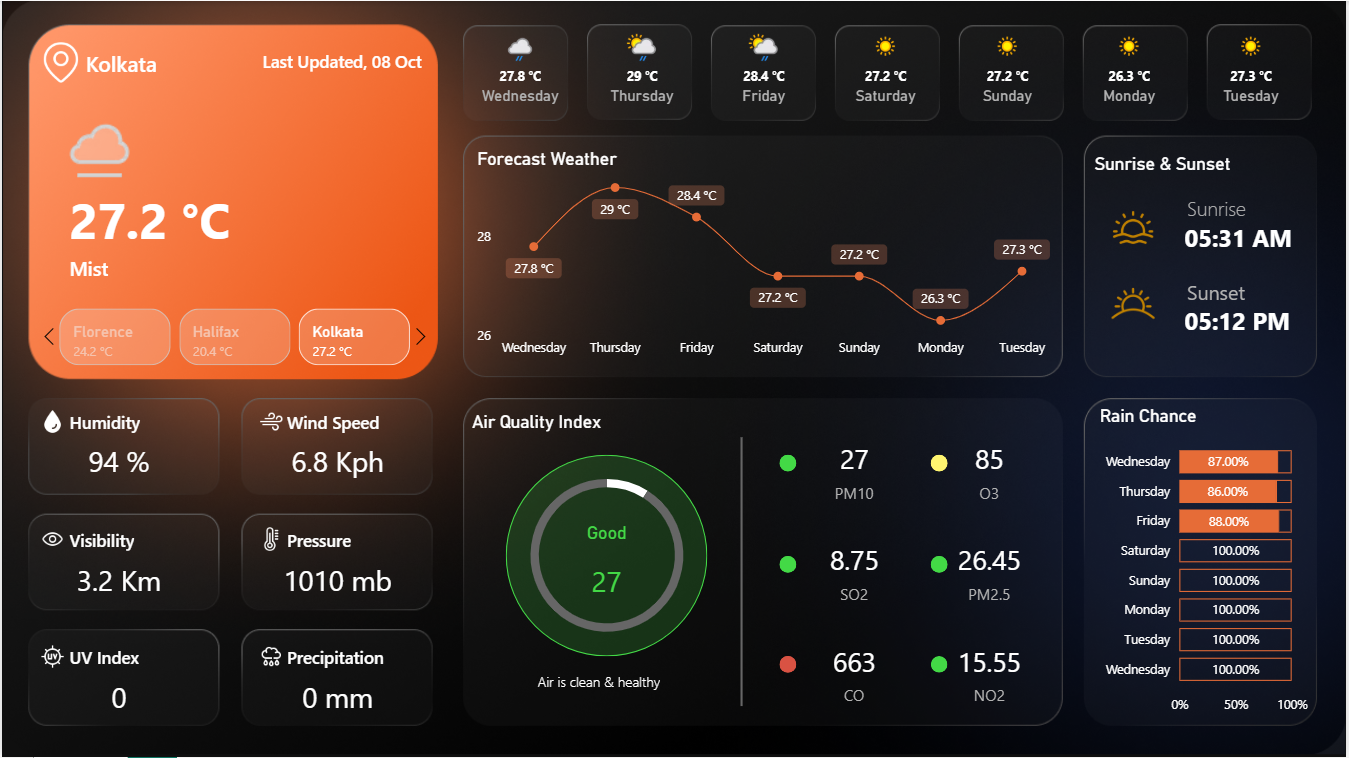

Layout of this report page (visuals, bound fields, positions):
{"tool":"powerbi","page":{"name":"Page 1","canvas":[1280,720],"ordinal":0},"visuals":[{"type":"shape","box":[480,432,192,192],"z":0},{"type":"advancedSlicerVisual","fields":{"Values":["Locations.location.name"]},"box":[30,288,384,64],"z":1000},{"type":"shape","box":[64,160,224,96],"z":2000},{"type":"shape","box":[64,230,320,48],"z":3000},{"type":"shape","box":[80,35,160,48],"z":4000},{"type":"shape","box":[224,32,176,48],"z":5000},{"type":"image","box":[32,35,48,48],"z":6000},{"type":"cardVisual","fields":{"Data":["Min(Current.current.condition.icon)"]},"box":[32,80,112,96],"z":7000},{"type":"shape","box":[64,496,128,32],"z":8000},{"type":"image","box":[32,496,32,32],"z":9000},{"type":"image","box":[32,384,32,32],"z":10000},{"type":"shape","box":[64,384,128,32],"z":11000},{"type":"image","box":[32,608,32,32],"z":12000},{"type":"shape","box":[64,608,128,32],"z":13000},{"type":"image","box":[240,384,32,32],"z":14000},{"type":"image","box":[240,496,32,32],"z":15000},{"type":"image","box":[240,608,32,32],"z":16000},{"type":"shape","box":[272,384,128,32],"z":17000},{"type":"shape","box":[272,496,128,32],"z":18000},{"type":"shape","box":[272,608,128,32],"z":19000},{"type":"card","fields":{"Values":["View.Curr_Humidity"]},"box":[48,416,128,48],"z":20000},{"type":"card","fields":{"Values":["View.Curr_Wind_Speed"]},"box":[256,416,128,48],"z":21000},{"type":"card","fields":{"Values":["View.Curr_Visibility"]},"box":[48,528,128,48],"z":22000},{"type":"card","fields":{"Values":["View.Curr_Pressure"]},"box":[256,528,128,48],"z":23000},{"type":"card","fields":{"Values":["Sum(Current.current.uv)"]},"box":[48,640,128,48],"z":24000},{"type":"card","fields":{"Values":["View.Curr_Precipitation"]},"box":[256,640,128,48],"z":25000},{"type":"advancedSlicerVisual","fields":{"Values":["Forecast_Day.Day_Name"]},"box":[435,20,816,96],"z":26000},{"type":"lineChart","title":"Forecast Weather","fields":{"Category":["Forecast_Day.Day_Name"],"Y":["Sum(Forecast_Day.forecast.forecastday.day.avgtemp_c)"]},"box":[448,140,560,208],"z":27000},{"type":"shape","box":[1040,138,192,32],"z":28000},{"type":"shape","box":[1129.2,180.5,144,32],"z":29000},{"type":"shape","box":[1126.1,288,128,32],"z":30000},{"type":"shape","box":[1126.1,208,128,32],"z":31000},{"type":"shape","box":[1129.2,260.5,144,32],"z":32000},{"type":"image","box":[1045,192,64,48],"z":33000},{"type":"image","box":[1045,256,64,64],"z":34000},{"type":"hundredPercentStackedBarChart","title":"Rain Chance","fields":{"Y":["Sum(Forecast_Day.forecast.forecastday.day.daily_chance_of_rain)","View.Left_Value_Rain"],"Category":["Forecast_Day.Day_Name"]},"box":[1040,384,208,304],"z":35000},{"type":"shape","box":[448,384,192,32],"z":36000},{"type":"card","fields":{"Values":["Sum(Current.current.air_quality.o3)"]},"box":[884.1,416,112,64],"z":37000},{"type":"card","fields":{"Values":["Sum(Current.current.air_quality.pm2_5)"]},"box":[884.1,512,112,64],"z":38000},{"type":"card","fields":{"Values":["Sum(Current.current.air_quality.no2)"]},"box":[884.1,608,112,64],"z":39000},{"type":"card","fields":{"Values":["Sum(Current.current.air_quality.co)"]},"box":[756.1,608,112,64],"z":40000},{"type":"card","fields":{"Values":["Sum(Current.current.air_quality.so2)"]},"box":[756.1,512,112,64],"z":41000},{"type":"card","fields":{"Values":["Sum(Current.current.air_quality.pm10)"]},"box":[756.1,416,112,64],"z":42000},{"type":"shape","box":[740.1,432,16,16],"z":43000},{"type":"shape","box":[884.1,432,16,16],"z":44000},{"type":"shape","box":[740.1,528,16,16],"z":45000},{"type":"shape","box":[884.1,528,16,16],"z":46000},{"type":"shape","box":[884.1,624,16,16],"z":47000},{"type":"shape","box":[608,416,192,256],"z":48000},{"type":"card","fields":{"Values":["Sum(Current.current.air_quality.pm10)"]},"box":[512,496,128,96],"z":49000},{"type":"donutChart","fields":{"Y":["Sum(Current.current.air_quality.pm10)","View.Left_Value_PM"]},"box":[464,432,224,192],"z":50000},{"type":"shape","box":[464,624,208,48],"z":51000},{"type":"shape","box":[741,624,16,16],"z":52000}]}

Visuals, with their boxes in screenshot pixels (x1, y1, x2, y2), scaled from the page's 1280x720 canvas onto the 1349x758 screenshot:
shape: <box>506,455,708,657</box>
advancedSlicerVisual - Locations.location.name: <box>32,303,436,371</box>
shape: <box>67,168,304,270</box>
shape: <box>67,242,405,293</box>
shape: <box>84,37,253,87</box>
shape: <box>236,34,422,84</box>
image: <box>34,37,84,87</box>
cardVisual - Min(Current.current.condition.icon): <box>34,84,152,185</box>
shape: <box>67,522,202,556</box>
image: <box>34,522,67,556</box>
image: <box>34,404,67,438</box>
shape: <box>67,404,202,438</box>
image: <box>34,640,67,674</box>
shape: <box>67,640,202,674</box>
image: <box>253,404,287,438</box>
image: <box>253,522,287,556</box>
image: <box>253,640,287,674</box>
shape: <box>287,404,422,438</box>
shape: <box>287,522,422,556</box>
shape: <box>287,640,422,674</box>
card - View.Curr_Humidity: <box>51,438,185,488</box>
card - View.Curr_Wind_Speed: <box>270,438,405,488</box>
card - View.Curr_Visibility: <box>51,556,185,606</box>
card - View.Curr_Pressure: <box>270,556,405,606</box>
card - Sum(Current.current.uv): <box>51,674,185,724</box>
card - View.Curr_Precipitation: <box>270,674,405,724</box>
advancedSlicerVisual - Forecast_Day.Day_Name: <box>458,21,1318,122</box>
"Forecast Weather" lineChart: <box>472,147,1062,366</box>
shape: <box>1096,145,1298,179</box>
shape: <box>1190,190,1342,224</box>
shape: <box>1187,303,1322,337</box>
shape: <box>1187,219,1322,253</box>
shape: <box>1190,274,1342,308</box>
image: <box>1101,202,1169,253</box>
image: <box>1101,270,1169,337</box>
"Rain Chance" hundredPercentStackedBarChart: <box>1096,404,1315,724</box>
shape: <box>472,404,674,438</box>
card - Sum(Current.current.air_quality.o3): <box>932,438,1050,505</box>
card - Sum(Current.current.air_quality.pm2_5): <box>932,539,1050,606</box>
card - Sum(Current.current.air_quality.no2): <box>932,640,1050,707</box>
card - Sum(Current.current.air_quality.co): <box>797,640,915,707</box>
card - Sum(Current.current.air_quality.so2): <box>797,539,915,606</box>
card - Sum(Current.current.air_quality.pm10): <box>797,438,915,505</box>
shape: <box>780,455,797,472</box>
shape: <box>932,455,949,472</box>
shape: <box>780,556,797,573</box>
shape: <box>932,556,949,573</box>
shape: <box>932,657,949,674</box>
shape: <box>641,438,843,707</box>
card - Sum(Current.current.air_quality.pm10): <box>540,522,674,623</box>
donutChart - Sum(Current.current.air_quality.pm10) x View.Left_Value_PM: <box>489,455,725,657</box>
shape: <box>489,657,708,707</box>
shape: <box>781,657,798,674</box>
